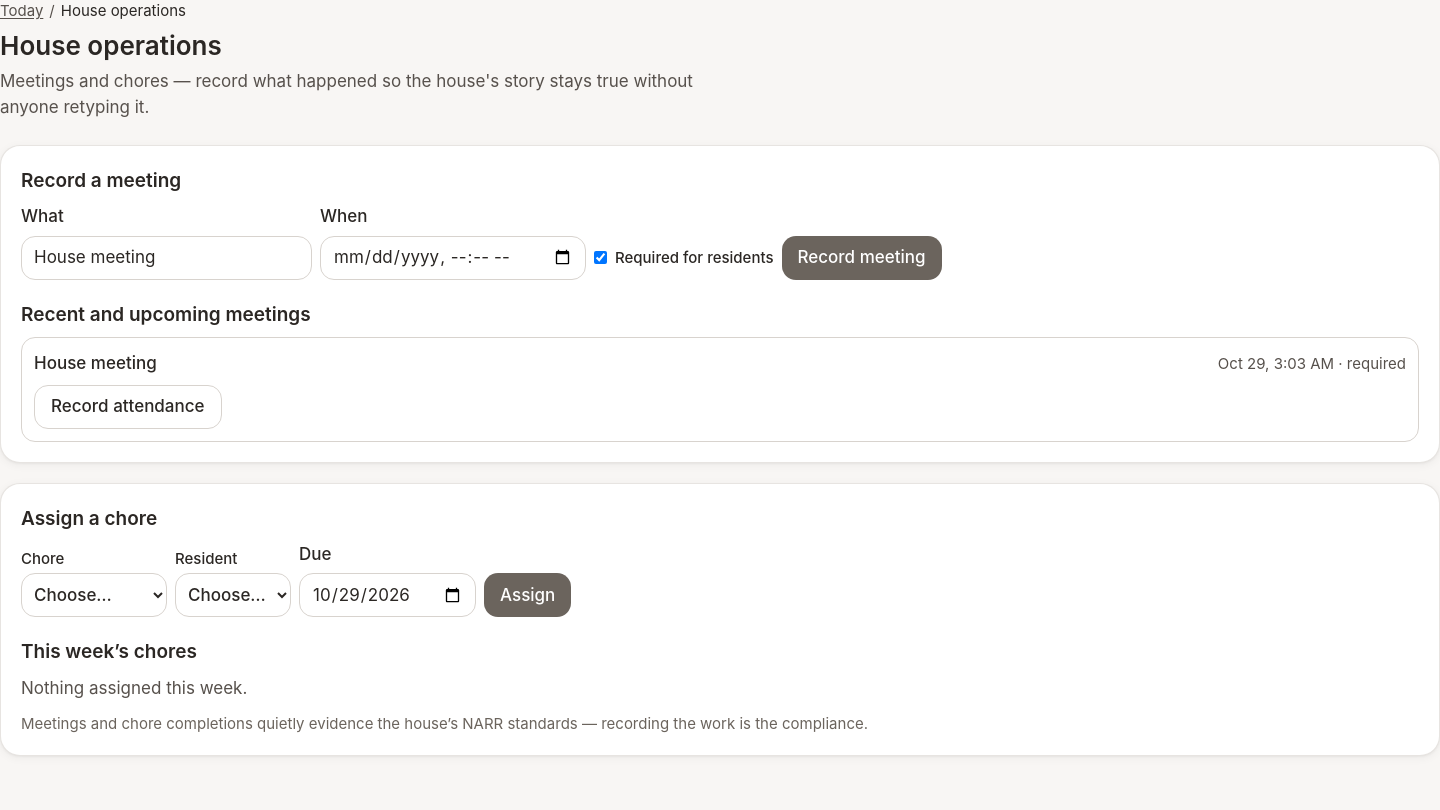
it: HouseOpsPage › surfaces a refusal verbatim
Step 1. Type "2026-08-22T18:00" into the field labelled "When" → (453, 258), box [320,236,586,280]
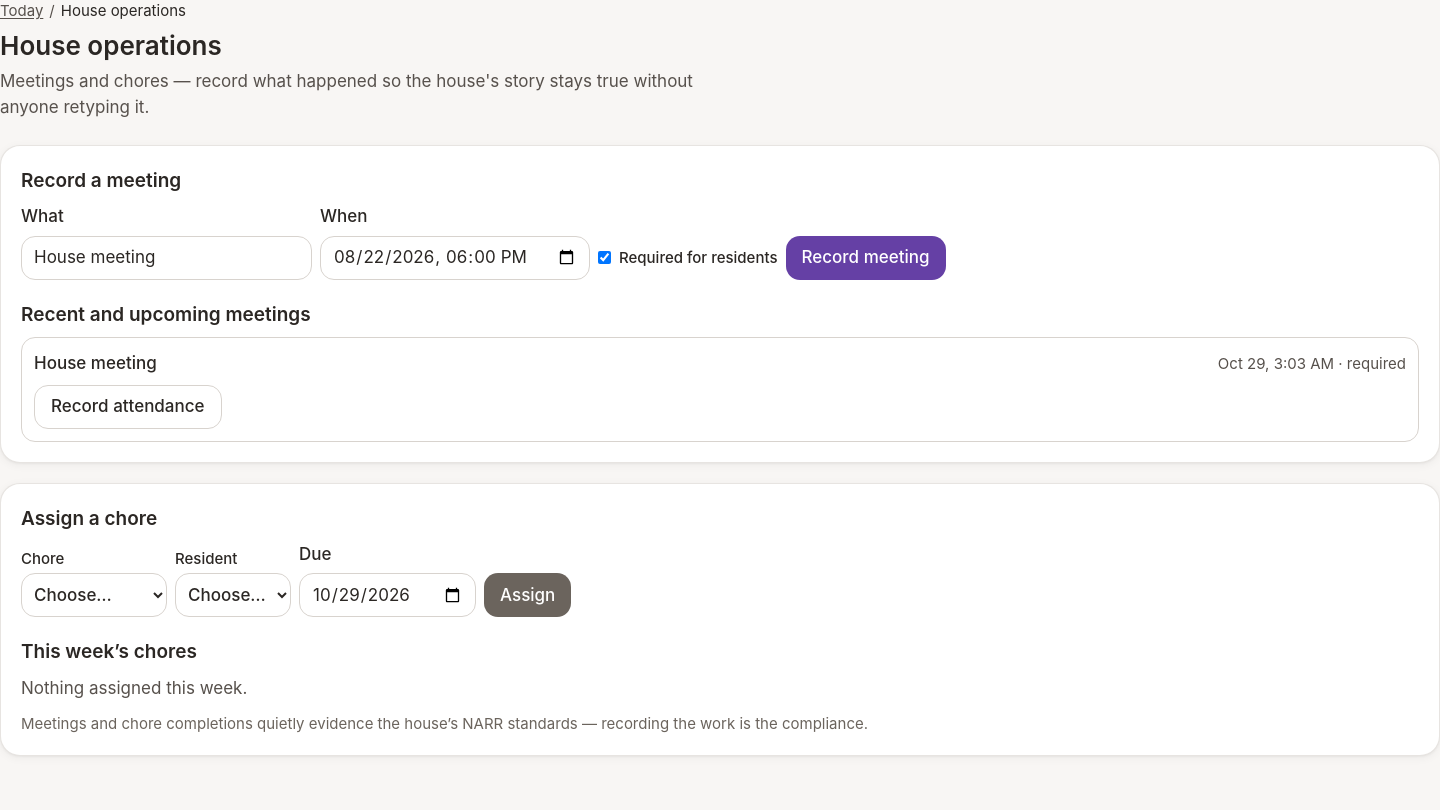
Step 2. Click the button "Record meeting" → (866, 258), box [786,236,946,280]
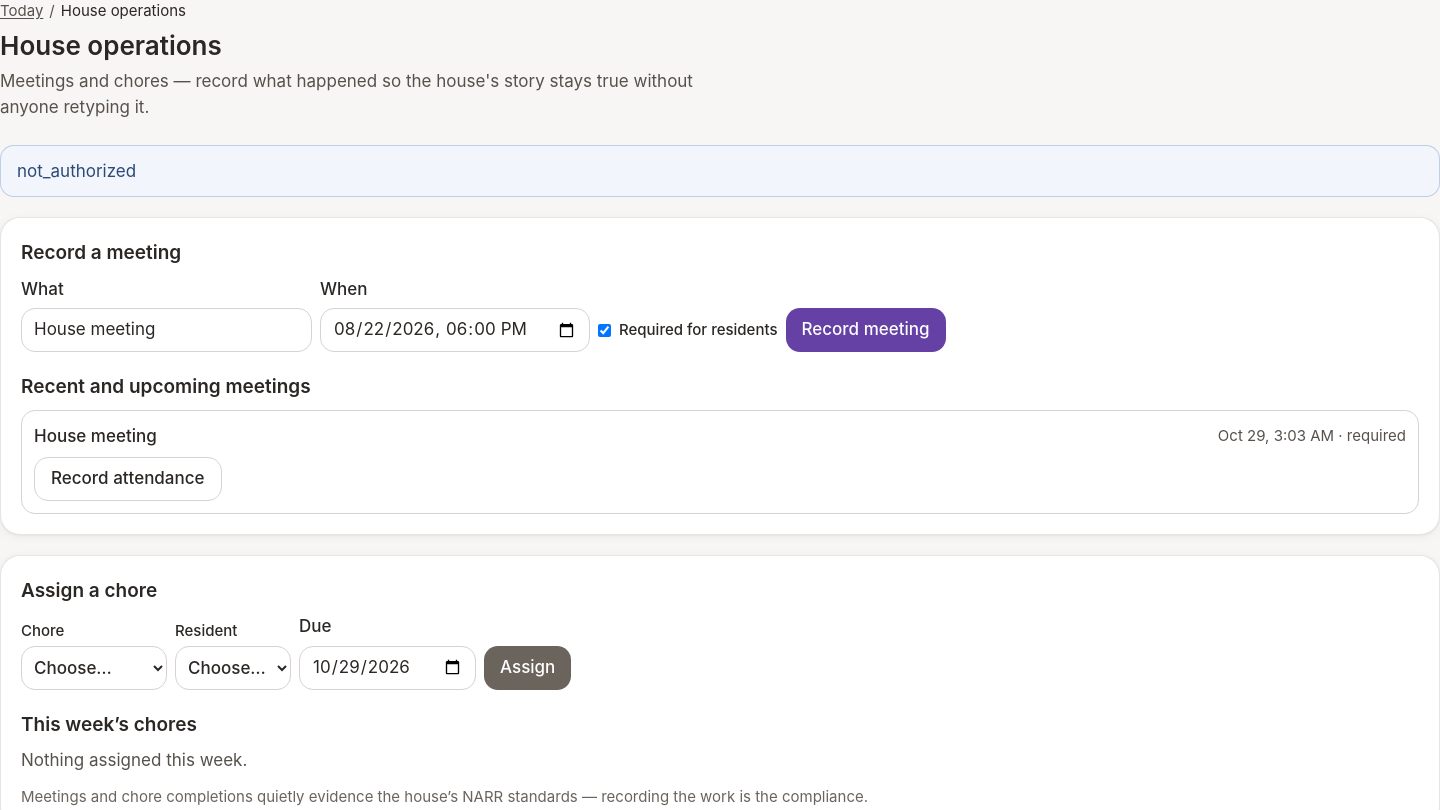
Expected: the text "not_authorized" is shown, [0,145,1439,197]
